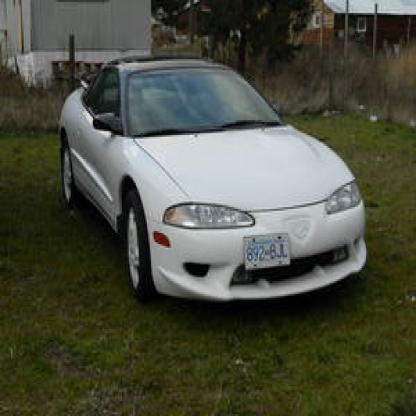Vehicle: (61, 61, 372, 309)
